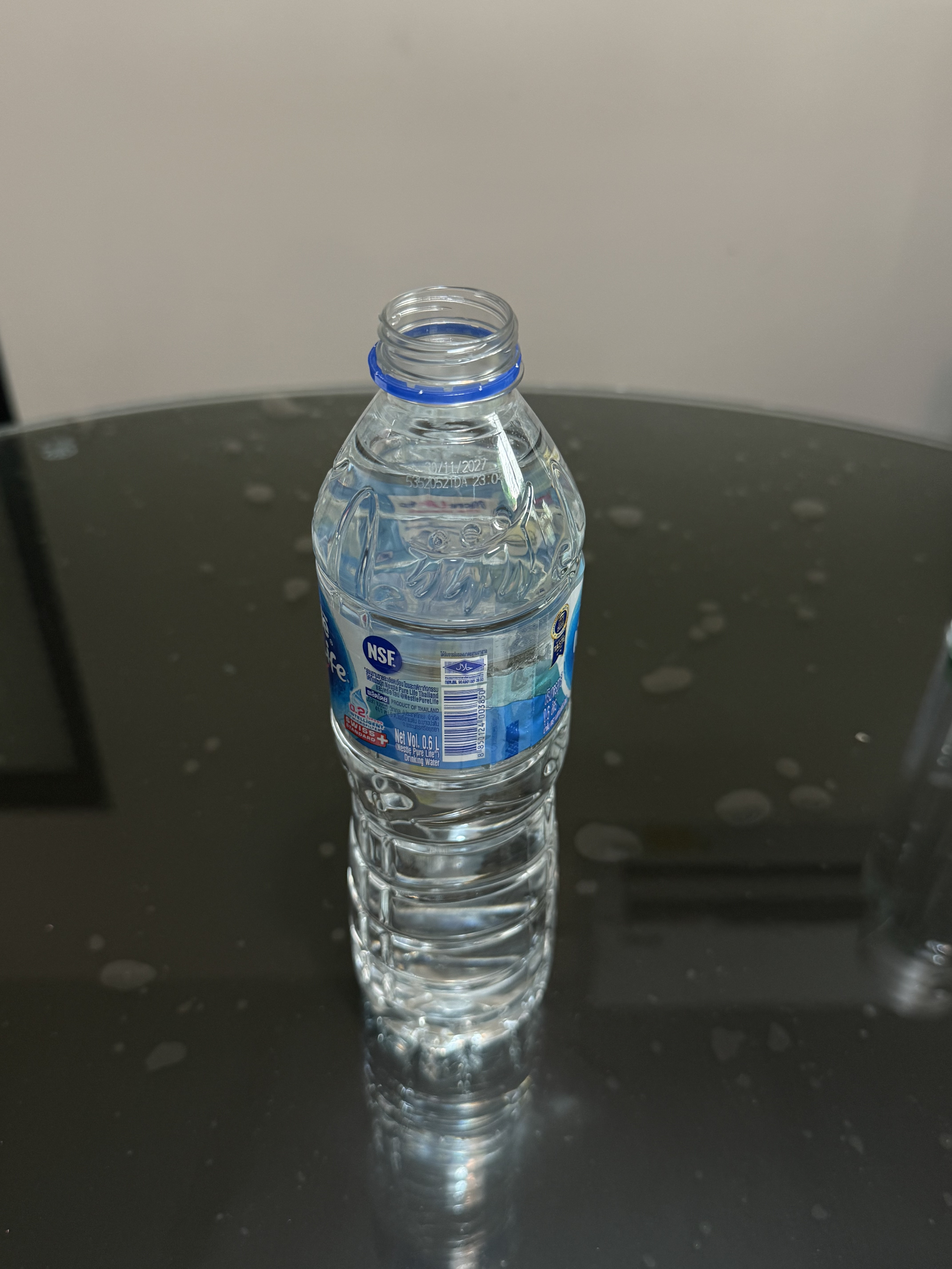no_cap: (363, 279, 529, 407)
